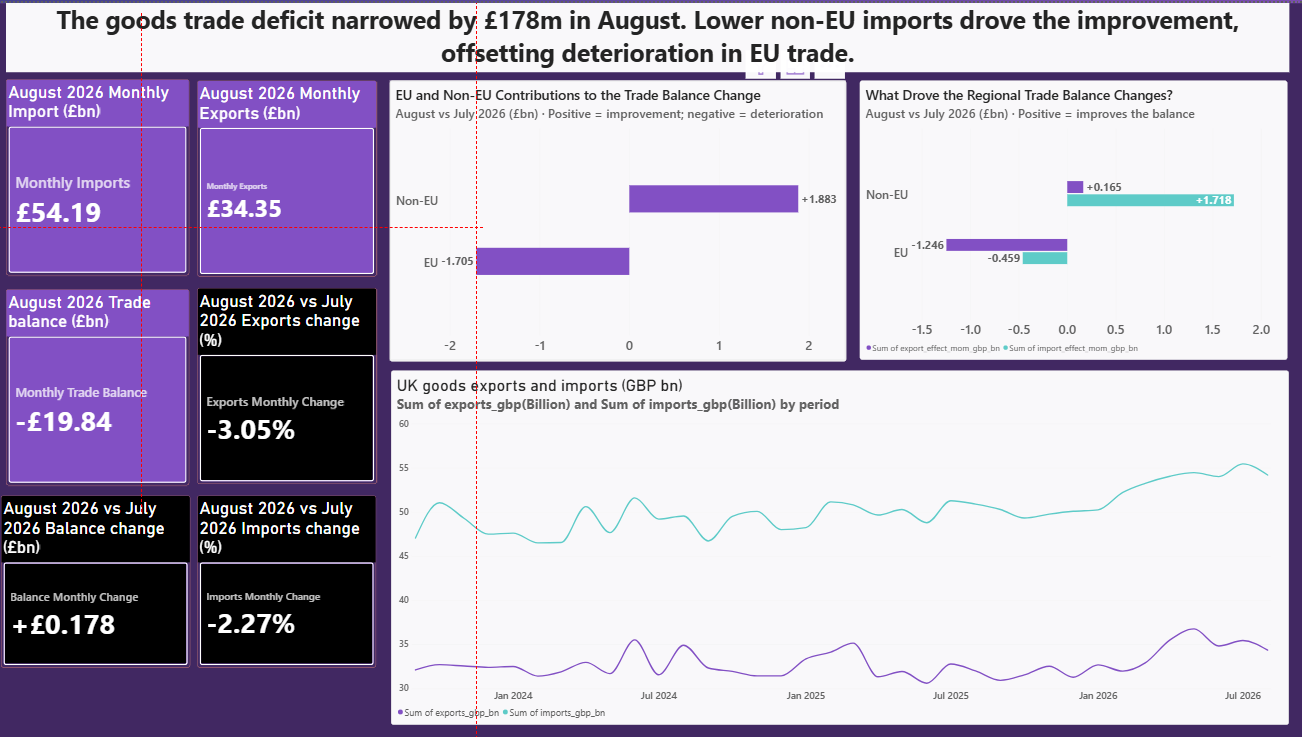

This screenshot's page, from the dashboard's own definition file:
{"tool":"powerbi","page":{"name":"Page 1","canvas":[3840,2160],"ordinal":0},"visuals":[{"type":"shape","box":[0,0,3840,2160],"z":0},{"type":"lineChart","title":"UK goods exports and imports (GBP bn)","fields":{"Category":["Worldwide.period"],"Y":["Sum(Worldwide.exports_gbp_bn)","Sum(Worldwide.imports_gbp_bn)"]},"box":[1160,1080,2635,1040],"z":1000},{"type":"cardVisual","fields":{"Data":["Worldwide.Monthly Imports"]},"box":[41.9,281.3,537.2,575.6],"z":2000},{"type":"cardVisual","fields":{"Data":["Worldwide.Monthly Trade Balance"]},"box":[41.9,895.3,537.2,575.6],"z":3000},{"type":"cardVisual","fields":{"Data":["Worldwide.Monthly Exports"]},"box":[603.1,282.9,526.7,575.6],"z":4000},{"type":"cardVisual","fields":{"Data":["Worldwide.Exports Monthly Change"]},"box":[603.1,893.4,526.7,575.6],"z":5000},{"type":"cardVisual","fields":{"Data":["Worldwide.Balance Monthly Change"]},"box":[25,1501,555,505],"z":6000},{"type":"cardVisual","fields":{"Data":["Worldwide.Imports Monthly Change"]},"box":[604,1502.6,525,505],"z":7000},{"type":"clusteredBarChart","title":"EU and Non-EU Contributions to the Trade Balance Change","fields":{"Category":["Regions.market"],"Y":["Sum(Regions.balance_mom_change_gbp_bn)"]},"box":[1154.7,225.7,1340,825],"z":8000},{"type":"clusteredBarChart","title":"What Drove the Regional Trade Balance Changes?","fields":{"Category":["Regions.market"],"Y":["Sum(Regions.export_effect_mom_gbp_bn)","Sum(Regions.import_effect_mom_gbp_bn)"]},"box":[2534.7,225.7,1255,820],"z":9000},{"type":"textbox","box":[30,0,3766.7,203.3],"z":10000}]}

Visuals, with their boxes in screenshot pixels (x1, y1, x2, y2), scaled from the page's 3840x2160 canvas onto the 1302x737 screenshot:
shape: pyautogui.locateOnScreen(0, 0, 1301, 736)
"UK goods exports and imports (GBP bn)" lineChart: pyautogui.locateOnScreen(393, 369, 1287, 723)
cardVisual - Worldwide.Monthly Imports: pyautogui.locateOnScreen(14, 96, 196, 292)
cardVisual - Worldwide.Monthly Trade Balance: pyautogui.locateOnScreen(14, 305, 196, 502)
cardVisual - Worldwide.Monthly Exports: pyautogui.locateOnScreen(204, 97, 383, 293)
cardVisual - Worldwide.Exports Monthly Change: pyautogui.locateOnScreen(204, 305, 383, 501)
cardVisual - Worldwide.Balance Monthly Change: pyautogui.locateOnScreen(8, 512, 197, 684)
cardVisual - Worldwide.Imports Monthly Change: pyautogui.locateOnScreen(205, 513, 383, 685)
"EU and Non-EU Contributions to the Trade Balance Change" clusteredBarChart: pyautogui.locateOnScreen(392, 77, 846, 359)
"What Drove the Regional Trade Balance Changes?" clusteredBarChart: pyautogui.locateOnScreen(859, 77, 1285, 357)
textbox: pyautogui.locateOnScreen(10, 0, 1287, 69)
